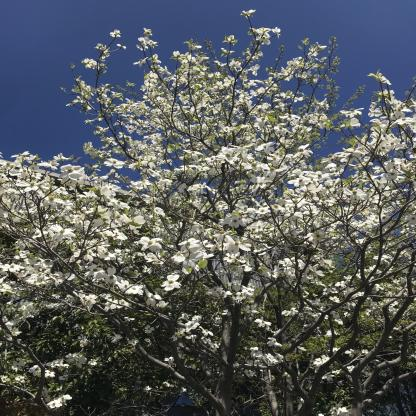Mokuren: (1, 10, 416, 416)
